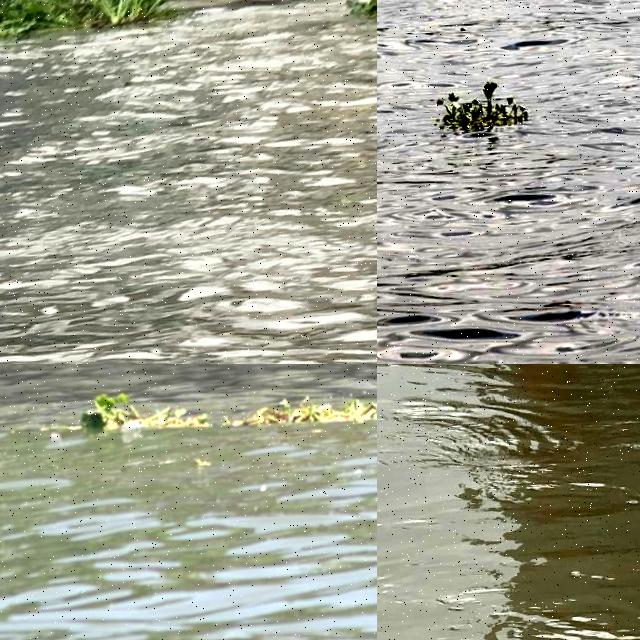water-hyacinth: (1, 1, 181, 54), (436, 79, 528, 136), (242, 392, 378, 427), (72, 384, 148, 437), (146, 405, 211, 435)
